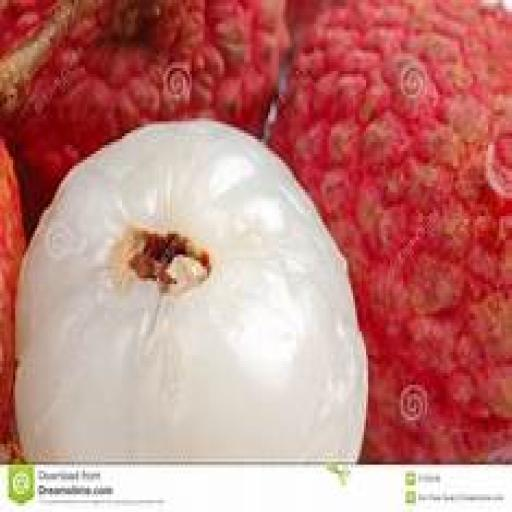lychee: (16, 122, 366, 461), (273, 0, 511, 461), (0, 0, 287, 224), (0, 143, 23, 443)
